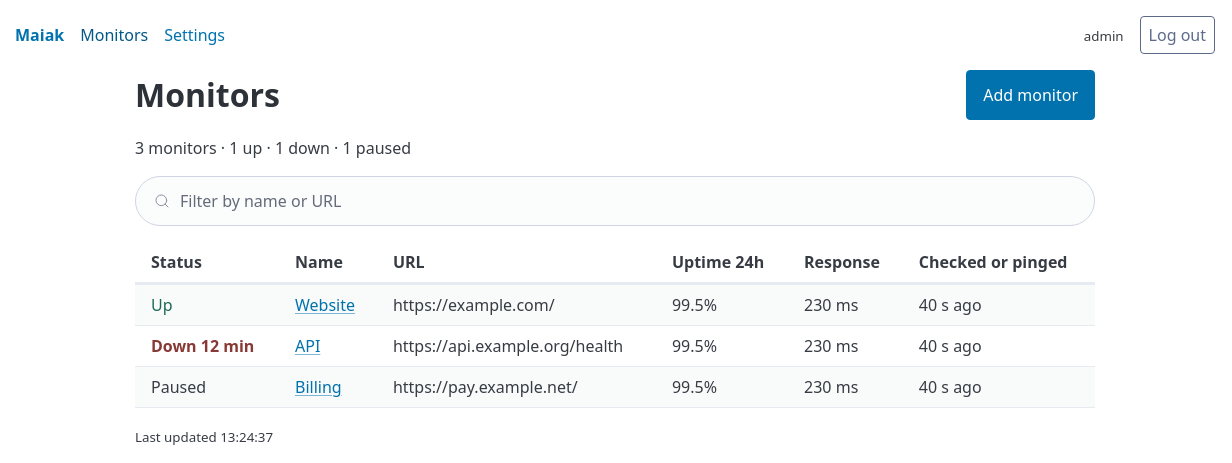
it: monitors list › shows the summary, statuses and filters by name or URL
Check: the text "3 monitors · 1 up · 1 down · 1 paused" is shown, box [135,137,411,159]
Check: the text "Down 12 min" is shown, box [151,335,254,357]
Type "health" into the search field labelled "Filter by name or URL".
click(615, 201); type("health")  # box [135,176,1095,226]
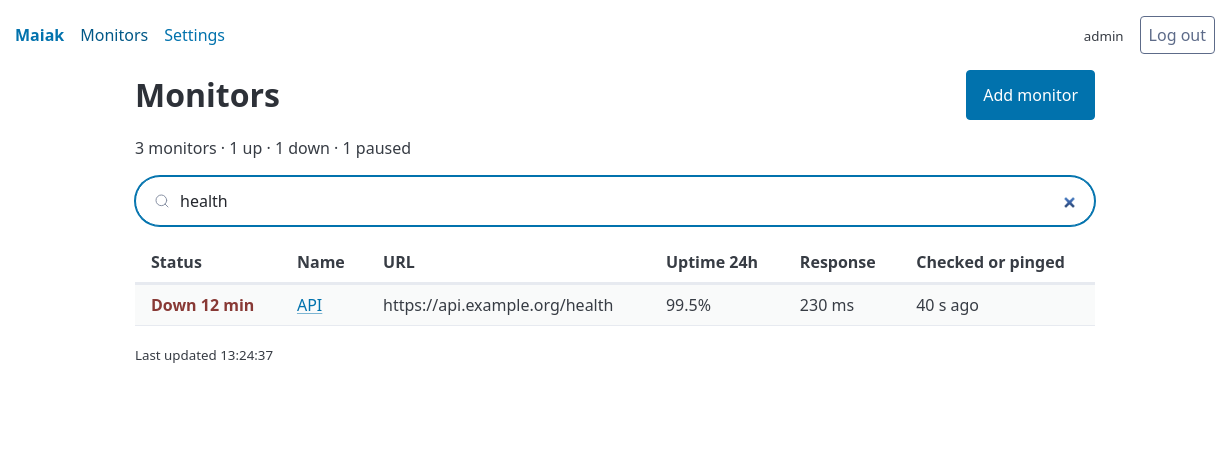
Check: the number of rows is 2, box [135,242,1095,284]; [135,284,1095,326]
Check: the link "API" is shown, box [297,294,322,316]
Replace the text in the search field named "Filter by name or URL" with "zzz" at [615, 201], box [135,176,1095,226]
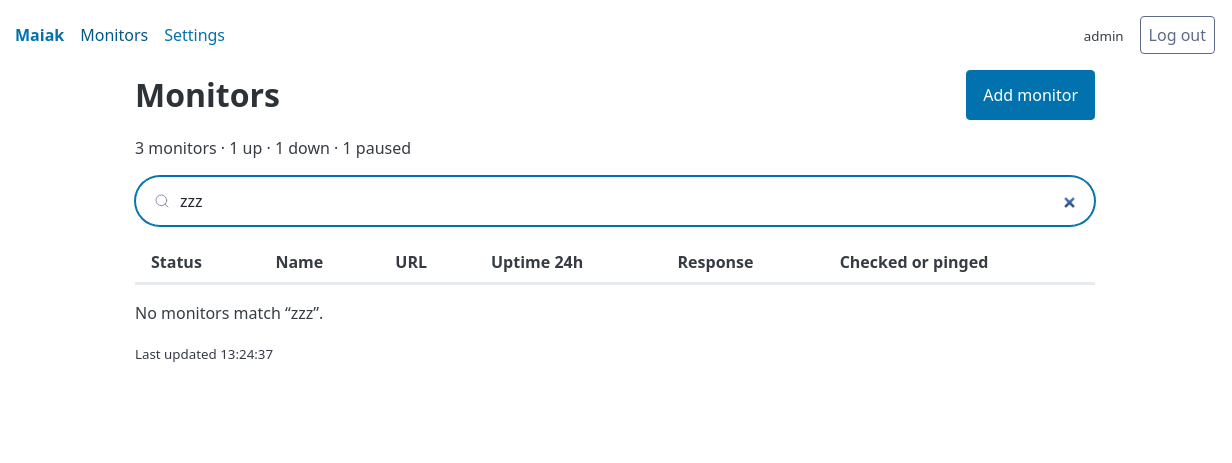
Check: the text "No monitors match “zzz”." is shown, box [135,302,323,324]
